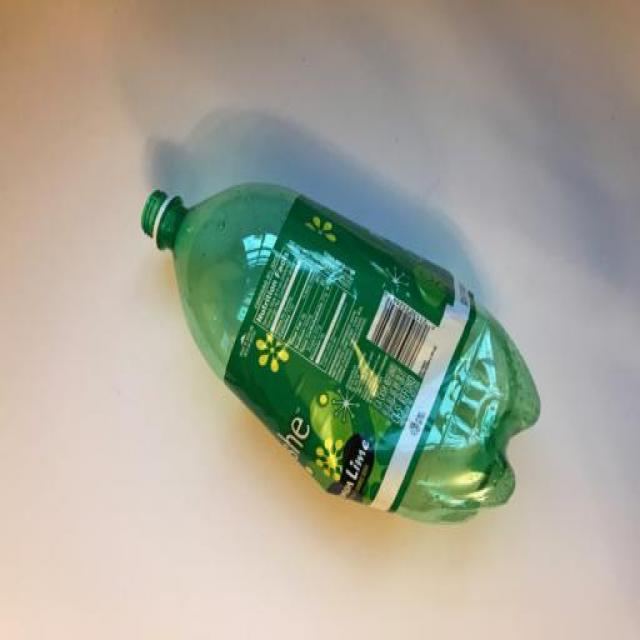plastic_bottle: (129, 174, 601, 539)
